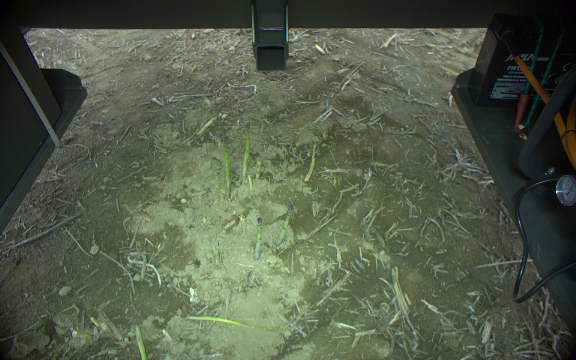aspa: (184, 313, 290, 339), (218, 130, 233, 200), (273, 204, 294, 247), (194, 111, 221, 138), (239, 121, 250, 182), (132, 325, 149, 360), (252, 216, 263, 262)
